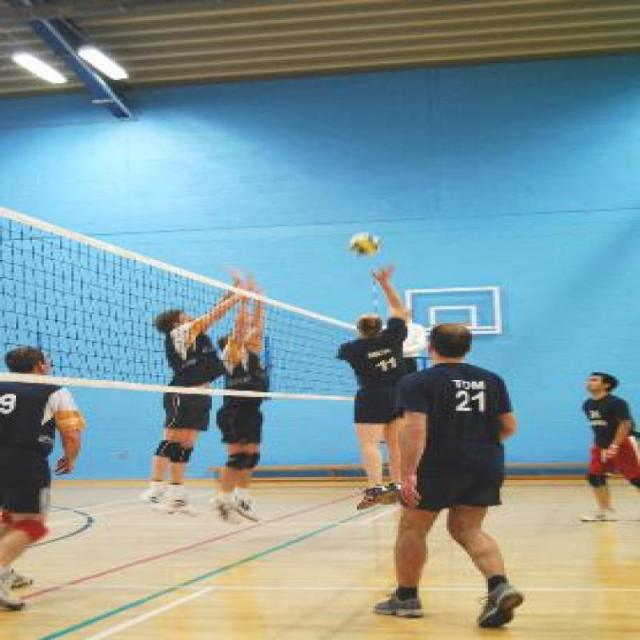volleyball: (350, 229, 382, 254)
